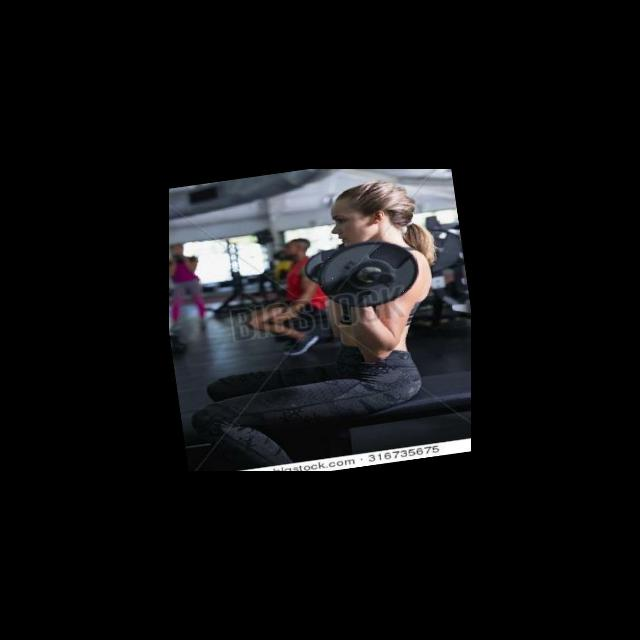barbell: (314, 233, 426, 318)
